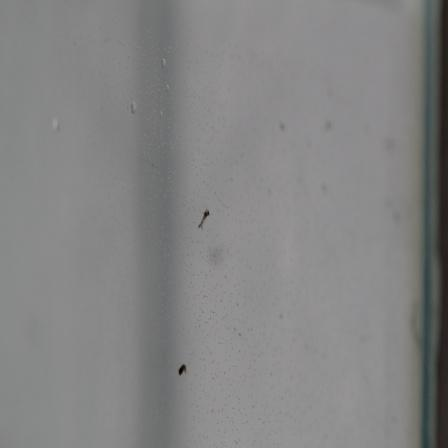Jentik-Nyamuk: (193, 206, 213, 233), (174, 359, 191, 379)
